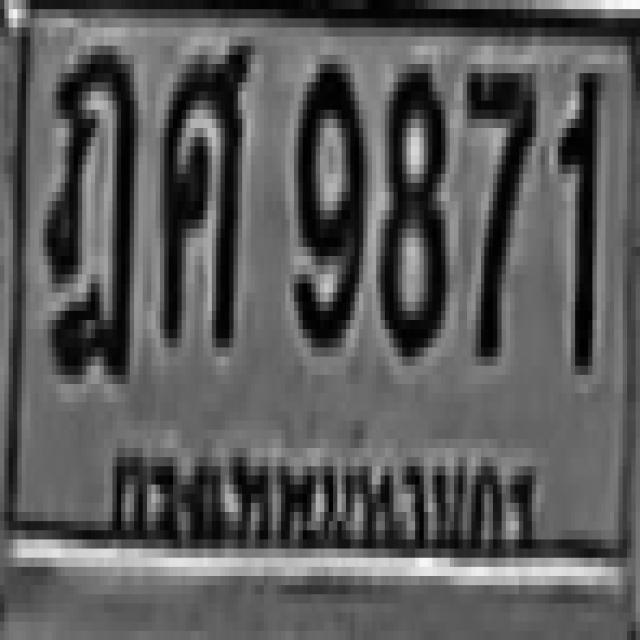1: (556, 64, 599, 357)
23DorChaDa: (43, 32, 134, 370)
47SorSala: (158, 32, 244, 334)
7: (463, 59, 532, 352)
8: (376, 55, 441, 347)
9: (290, 55, 359, 338)
Bangkok: (105, 405, 548, 595)
